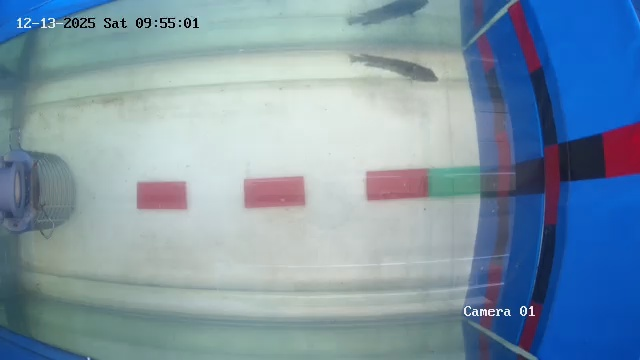fish: (351, 41, 443, 99)
